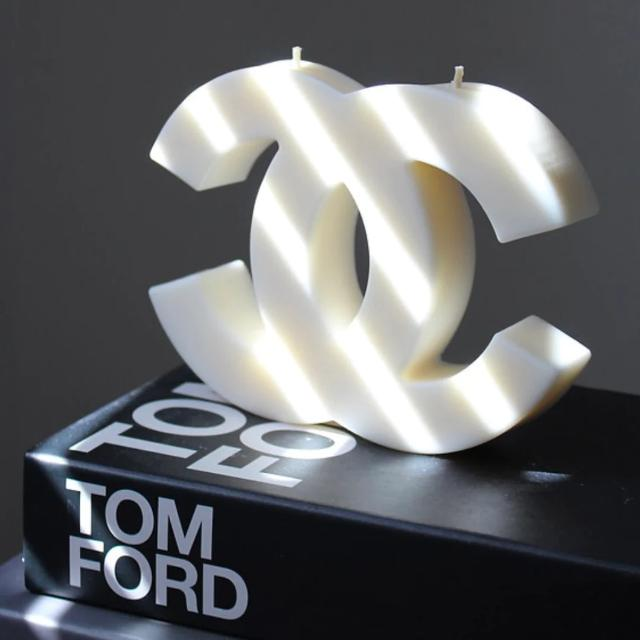Chanel: (61, 19, 621, 457)
